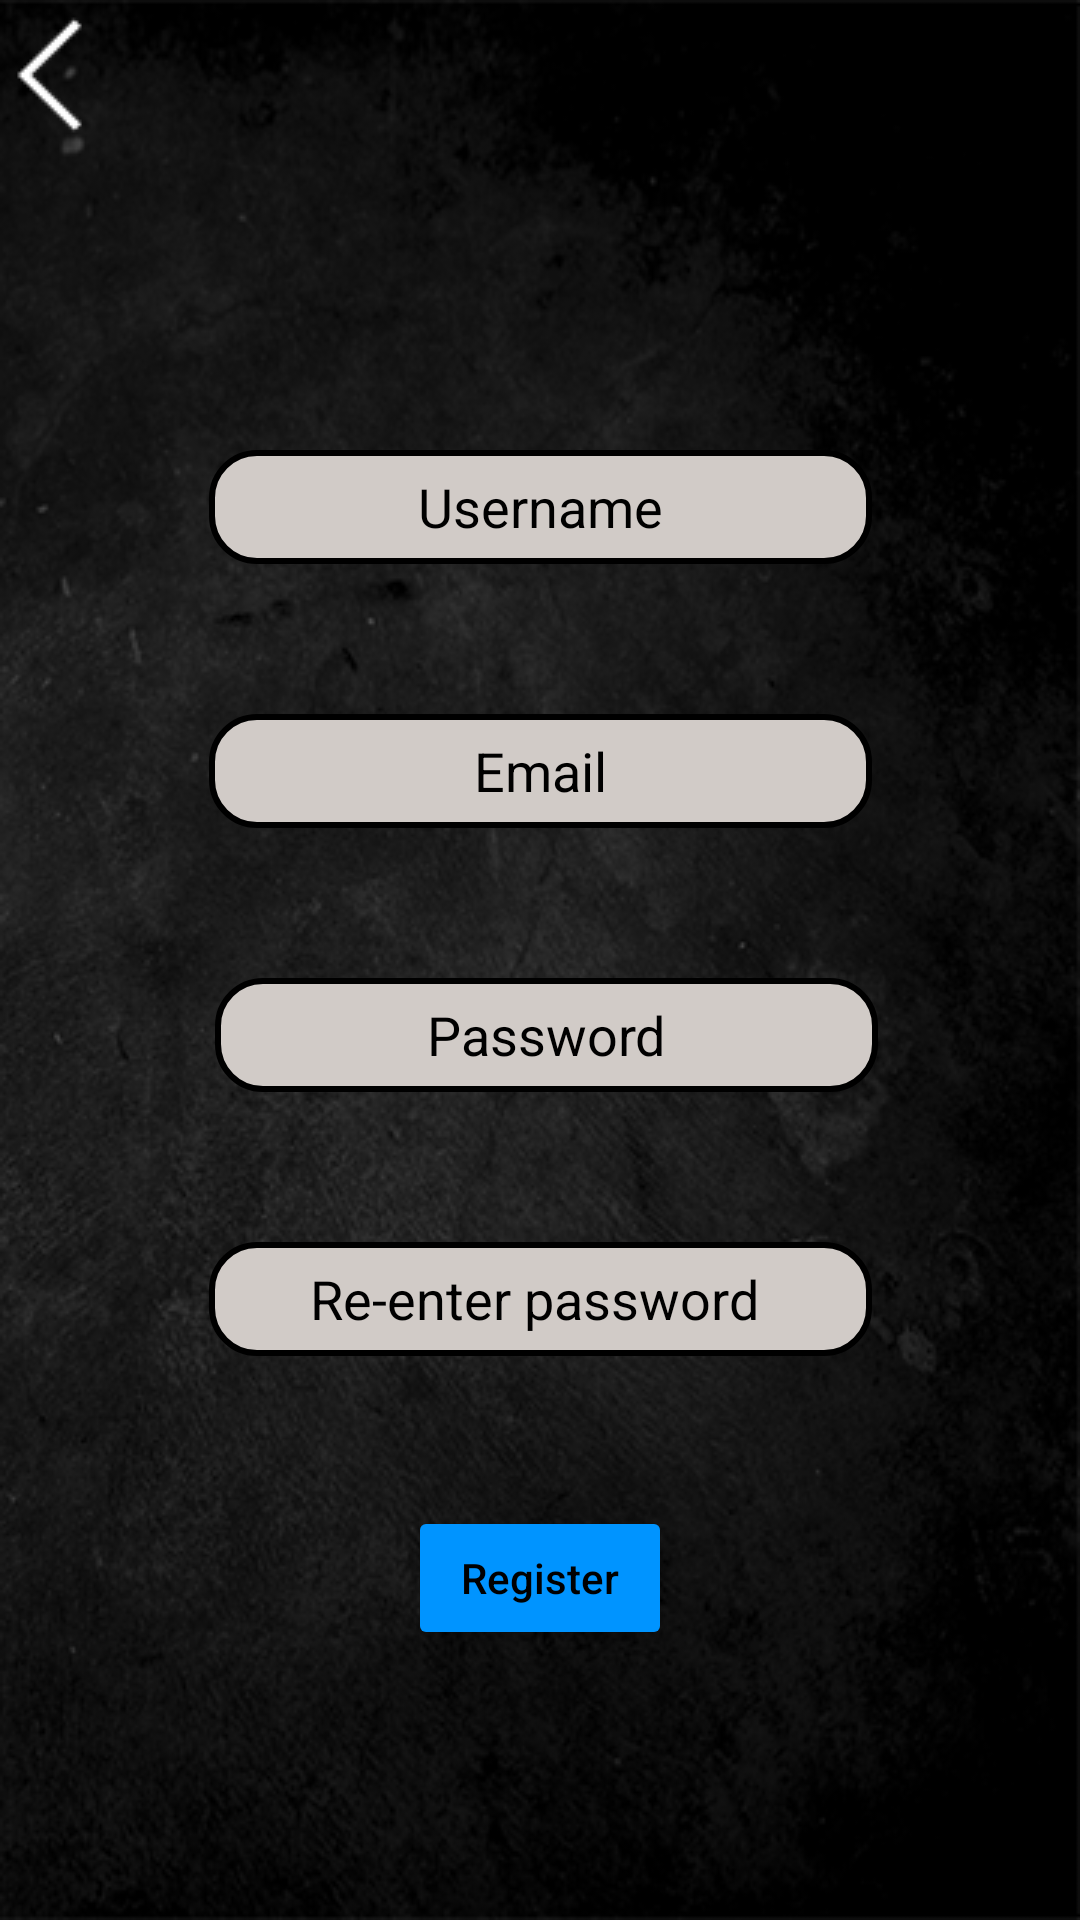

Screen size 1080w x 1920h. Icon name, then its center in pixels as (x,y):
backbutton: (49,75)
